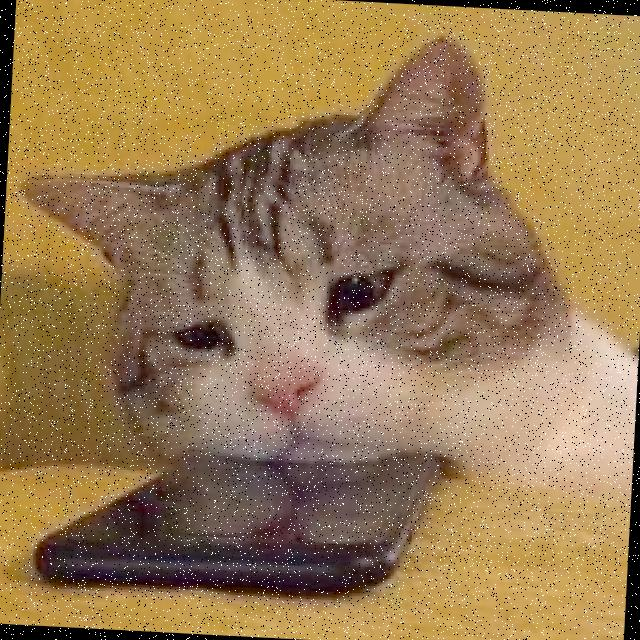Sad: (104, 216, 466, 484)
